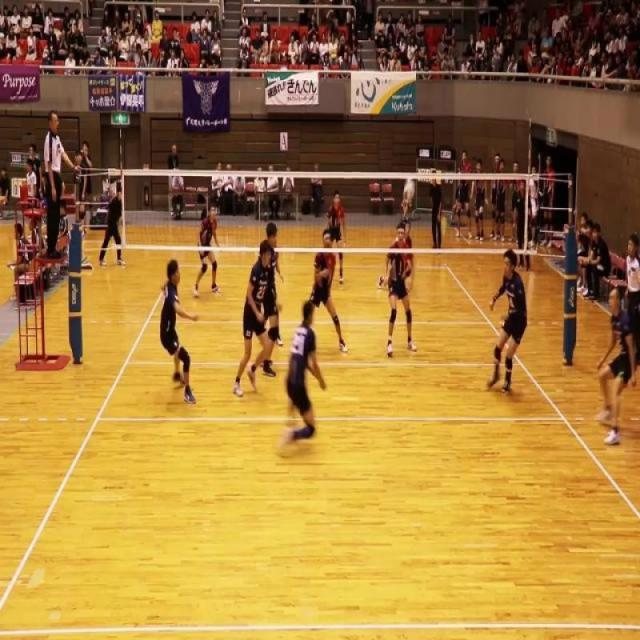volleyball: (402, 178, 416, 202)
